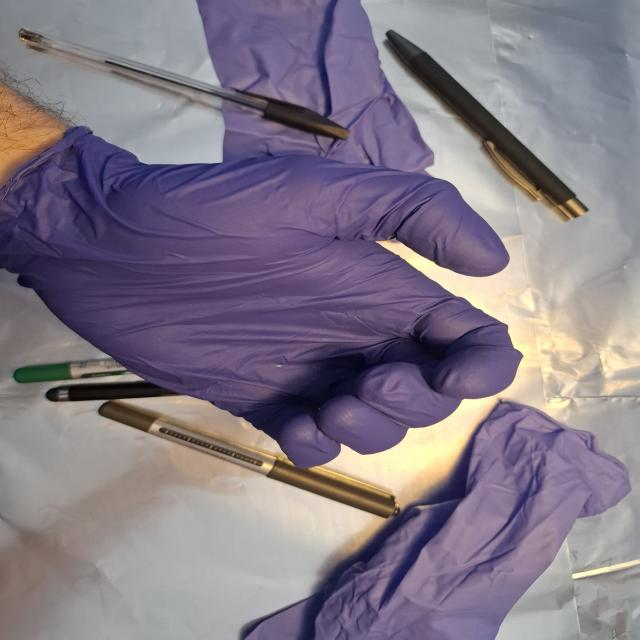glove_on: (10, 135, 533, 471)
